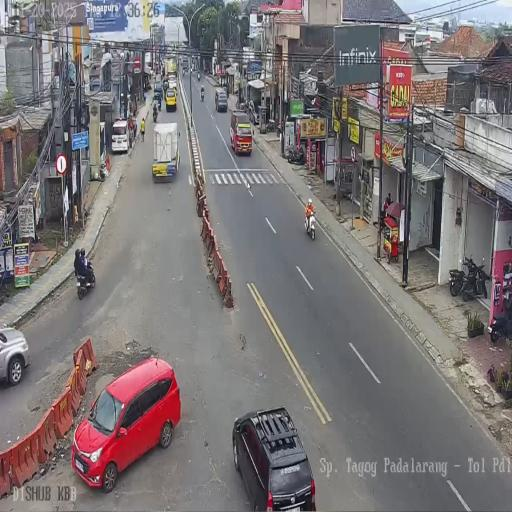car: (70, 356, 180, 492), (232, 407, 314, 509), (0, 326, 30, 387), (229, 109, 252, 157), (111, 118, 130, 154), (165, 87, 177, 112), (215, 88, 227, 112), (246, 100, 258, 124), (153, 80, 163, 101), (182, 66, 188, 76)
motorcycle: (449, 255, 475, 296), (489, 299, 511, 342), (76, 256, 95, 300), (286, 144, 305, 166), (304, 208, 316, 241), (236, 98, 246, 111), (152, 104, 158, 122), (276, 120, 282, 138), (157, 97, 162, 111), (200, 90, 204, 102), (197, 72, 200, 81)
truck: (152, 121, 179, 182), (165, 58, 176, 82), (144, 52, 152, 73)
